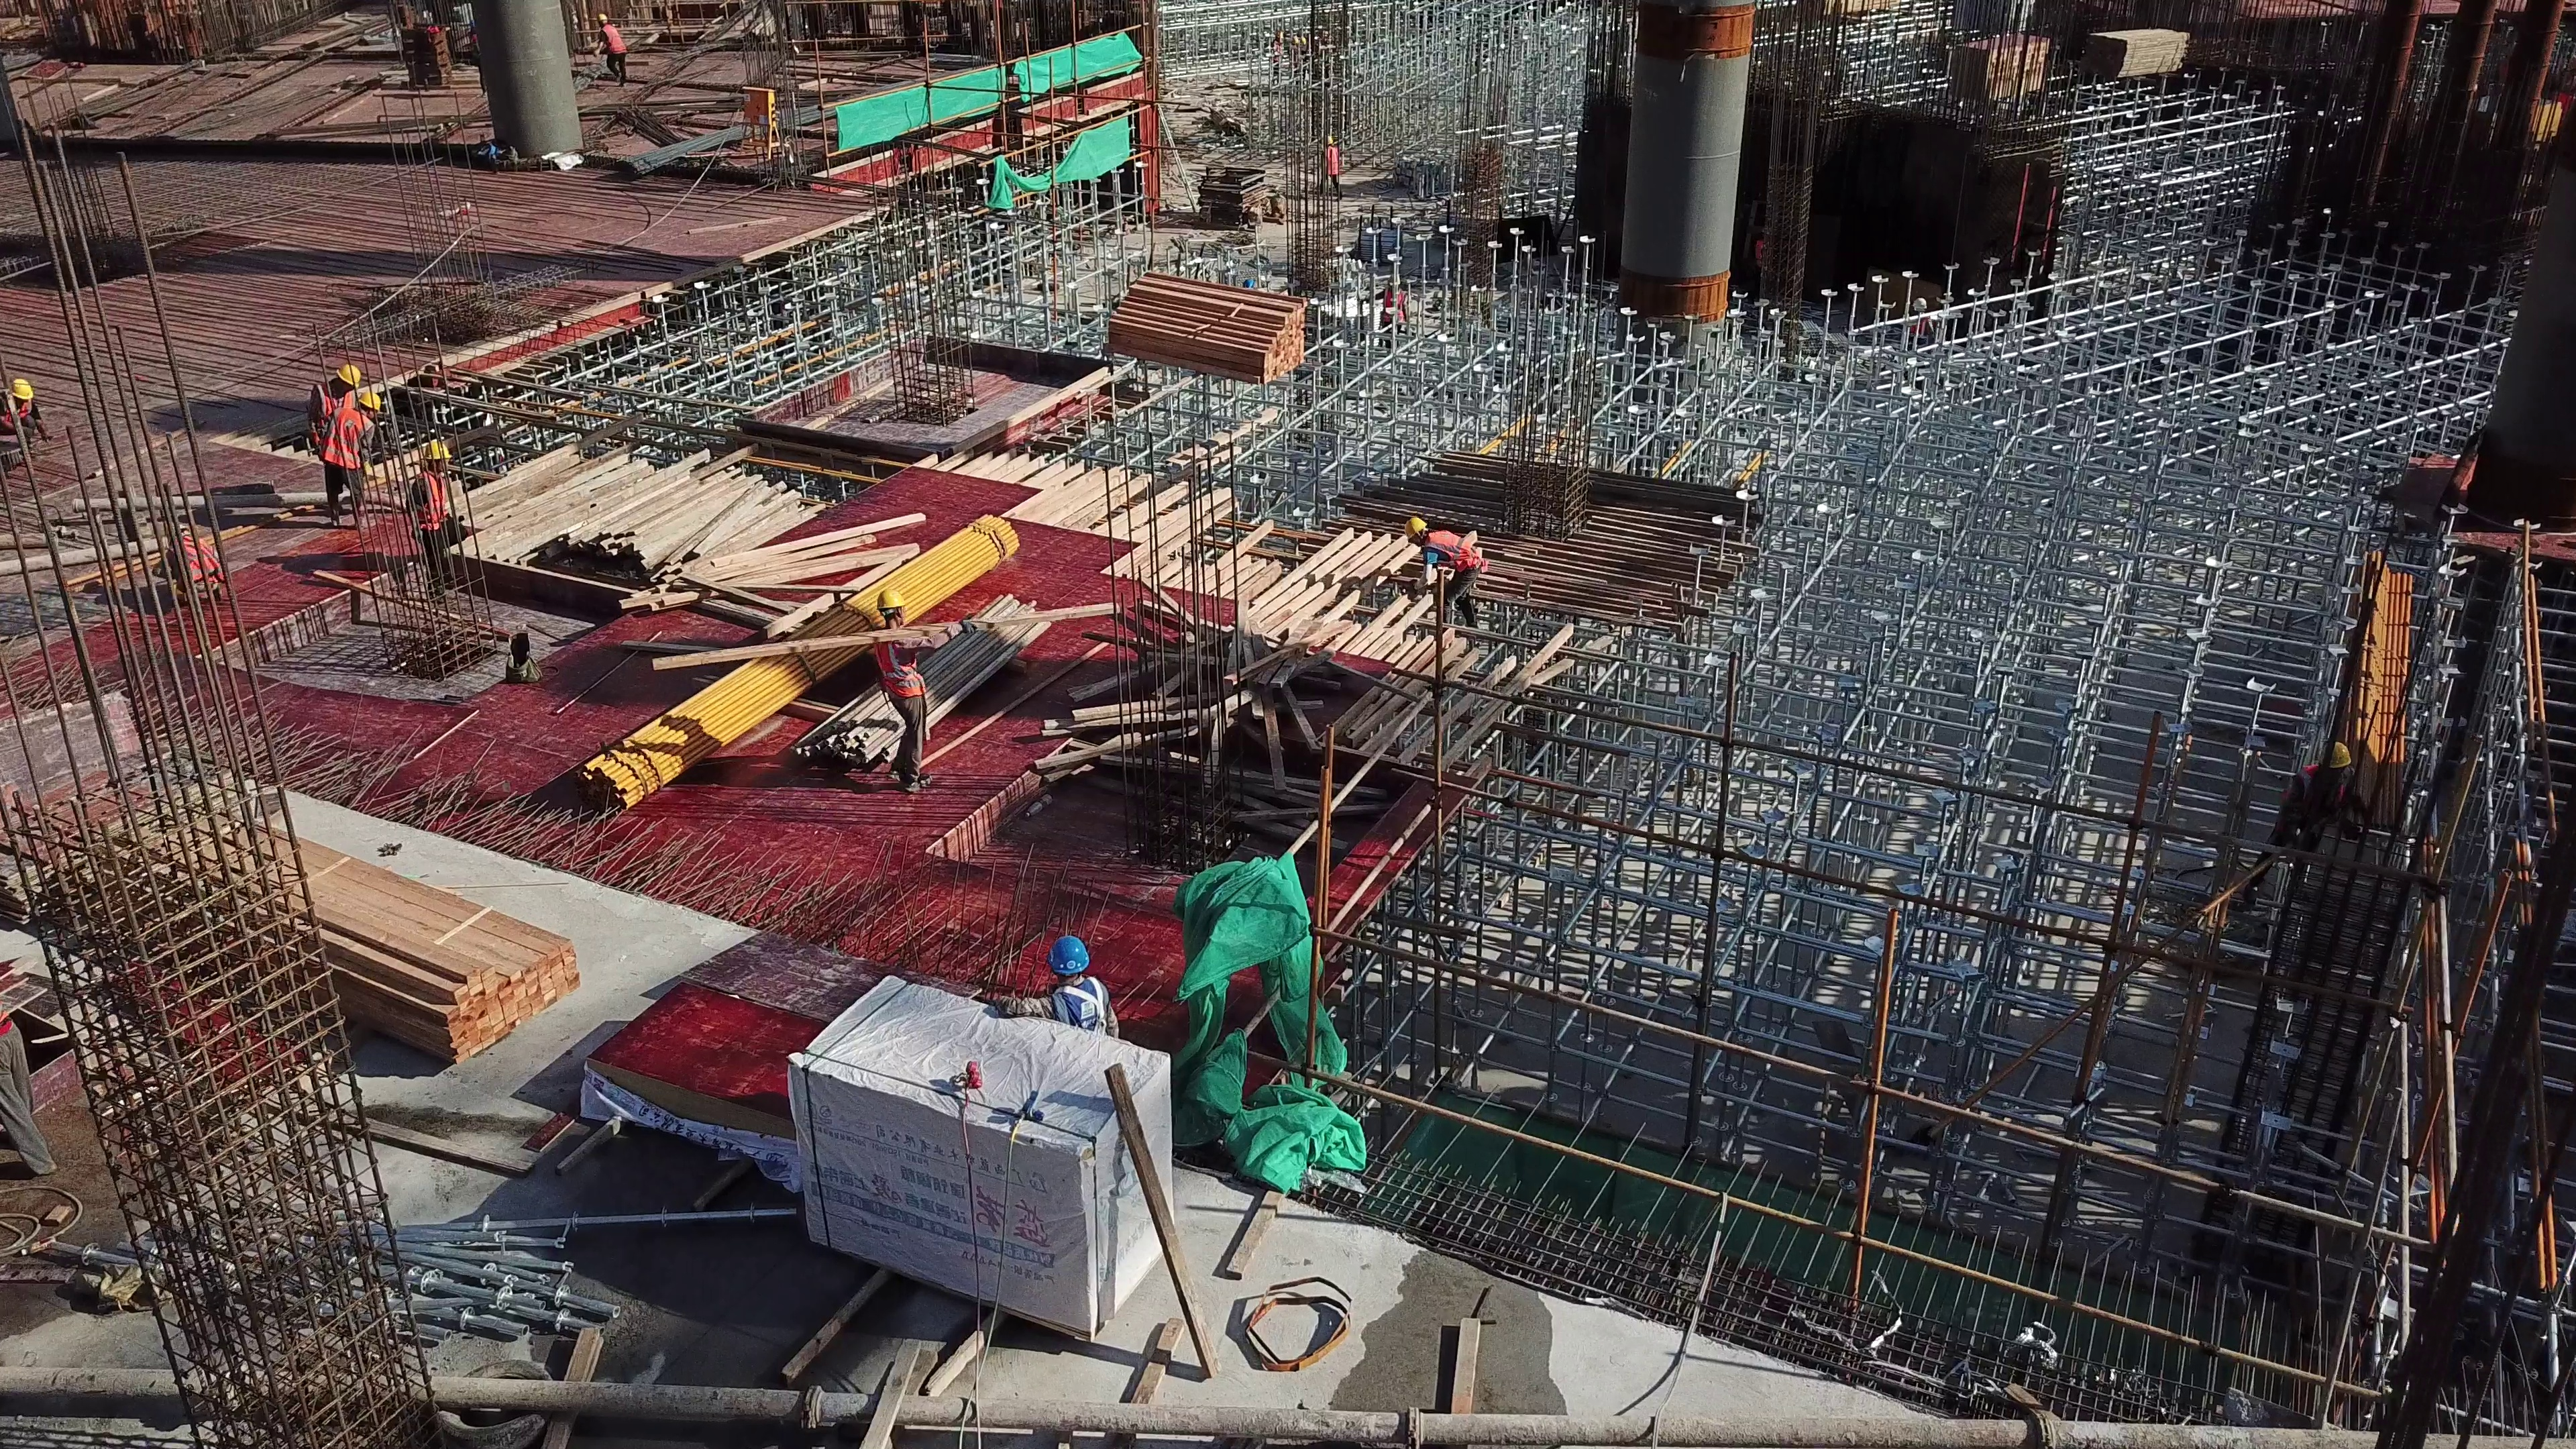helmet: (1044, 934, 1095, 973), (2316, 741, 2351, 772), (9, 375, 34, 404), (1403, 513, 1426, 543), (877, 588, 904, 612), (335, 361, 357, 386), (356, 390, 383, 409), (424, 440, 450, 460), (1910, 295, 1925, 313), (598, 14, 607, 23)
person: (865, 588, 981, 794), (2239, 742, 2363, 920), (989, 934, 1117, 1043), (1401, 514, 1487, 635), (1, 995, 56, 1182), (318, 391, 380, 530), (406, 439, 455, 605), (154, 525, 224, 600), (309, 364, 363, 449), (1, 373, 50, 458), (1363, 273, 1412, 342), (590, 15, 629, 85), (1896, 299, 1933, 354), (1316, 133, 1341, 198), (1754, 227, 1766, 297)
vest: (871, 639, 926, 695), (2286, 771, 2341, 822), (325, 406, 365, 474), (1427, 528, 1485, 570), (1055, 977, 1099, 1031), (316, 384, 352, 442), (174, 537, 217, 584), (417, 468, 441, 529), (1, 390, 25, 430), (1384, 284, 1404, 321), (602, 24, 623, 54), (1909, 315, 1931, 338), (1325, 146, 1337, 178), (1754, 237, 1764, 264)
